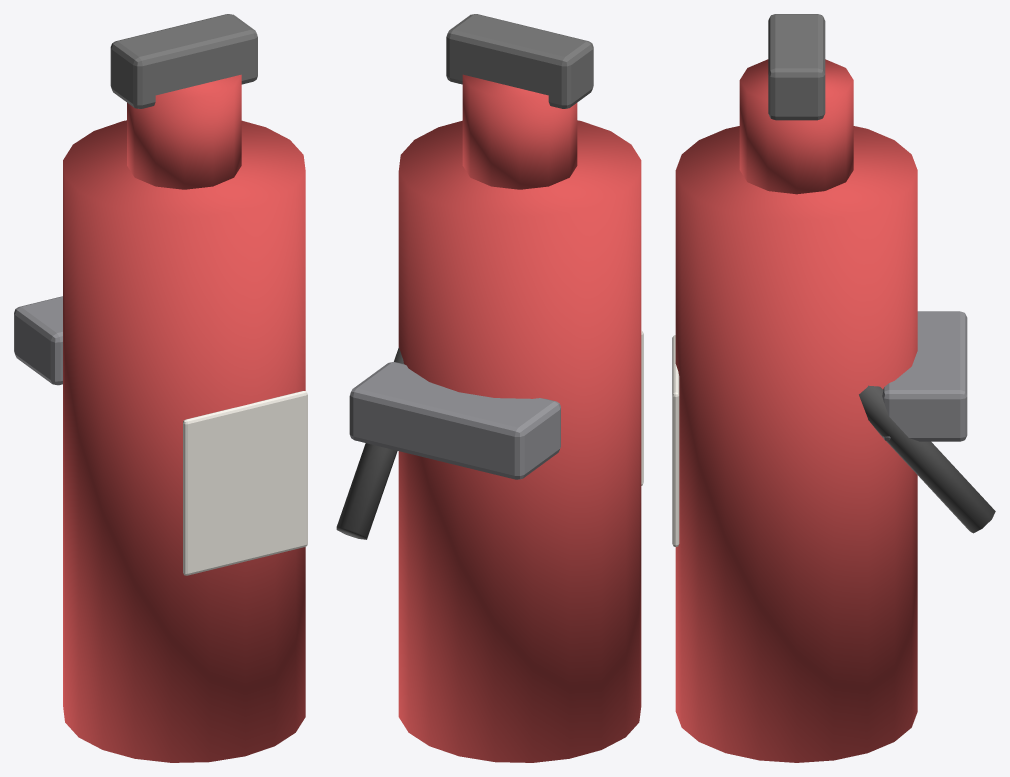
Rendered from fire_extinguisher.glb.
3 renders of one model, left to right at view 1: azimuth 30°, elevation 25°; view 2: azimuth 150°, elevation 25°; view 3: azimuth 270°, elevation 25°, orthographic.
Parts seen in each view (by area): view 1: fe_body, fe_label, fe_neck, fe_handle, fe_bracket; view 2: fe_body, fe_bracket, fe_neck, fe_handle, fe_hose; view 3: fe_body, fe_neck, fe_bracket, fe_handle, fe_hose, fe_label.
Part boxes in pixels (box(x1,y1,x2,y2)): fe_body: box(63, 120, 305, 762); fe_label: box(183, 391, 307, 575); fe_neck: box(127, 74, 241, 189); fe_handle: box(110, 14, 257, 108); fe_bracket: box(14, 296, 62, 385); fe_body: box(398, 120, 641, 762); fe_bracket: box(349, 362, 560, 479); fe_neck: box(462, 74, 577, 189); fe_handle: box(446, 14, 593, 108); fe_hose: box(336, 347, 403, 539); fe_body: box(675, 126, 917, 762); fe_neck: box(739, 59, 853, 194); fe_bracket: box(882, 311, 967, 441); fe_handle: box(768, 14, 825, 120); fe_hose: box(859, 385, 995, 533); fe_label: box(672, 335, 679, 546).
Bounding box in the file's own units: 0.17 × 0.52 × 0.2274.
